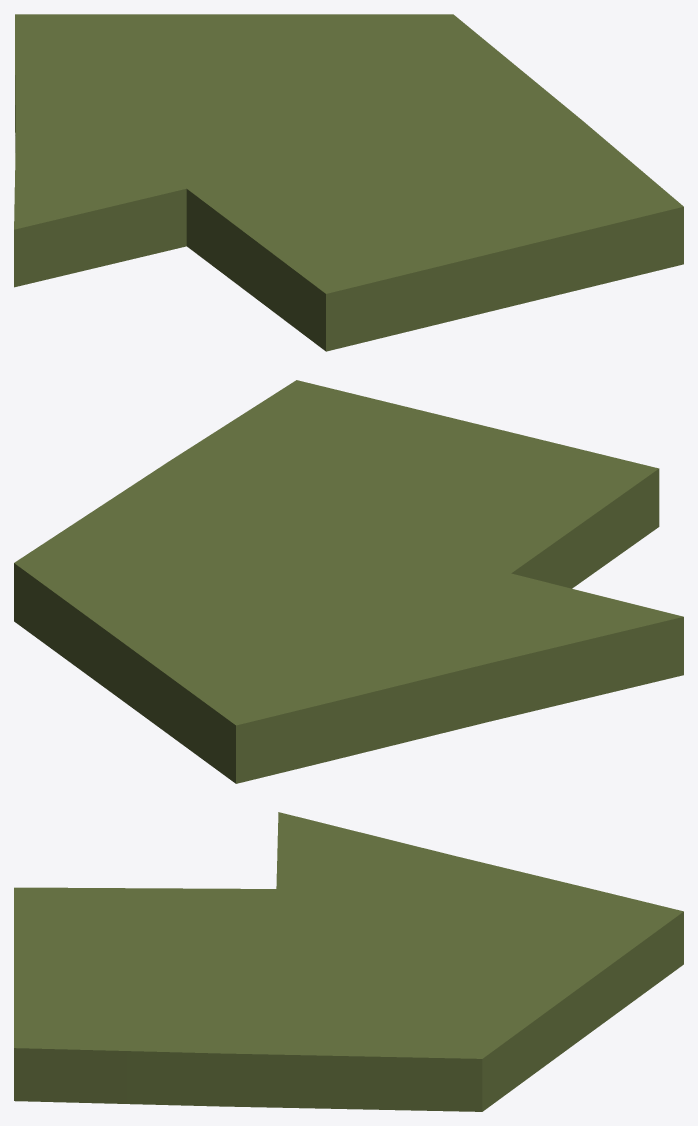
The model's file is ground_15.fbx.
3 renders of one model, top to bottom at view 1: azimuth 30°, elevation 25°; view 2: azimuth 150°, elevation 25°; view 3: azimuth 270°, elevation 25°, orthographic. The views are drawn at different scales.
Visible parts, largest first — view 1: ground_15; view 2: ground_15; view 3: ground_15.
Part boxes in pixels (left/top/right/bottom): ground_15: left=14, top=14, right=683, bottom=351; ground_15: left=14, top=380, right=683, bottom=783; ground_15: left=14, top=812, right=683, bottom=1111.
Bounding box in the file's own units: 10.86 × 1.09 × 12.45.
